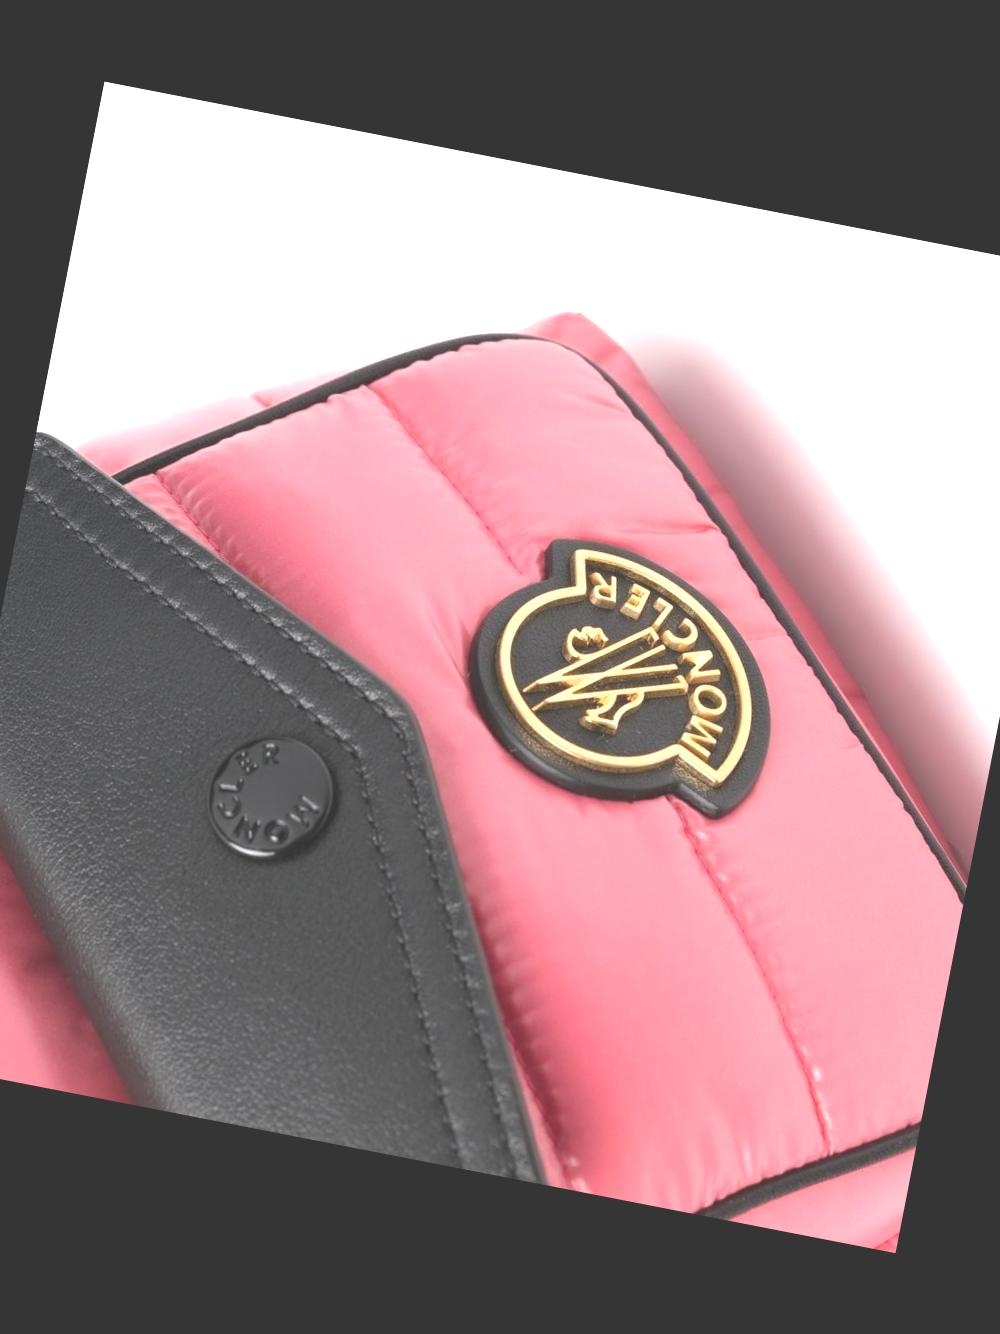MONCLER: (443, 521, 803, 829)
